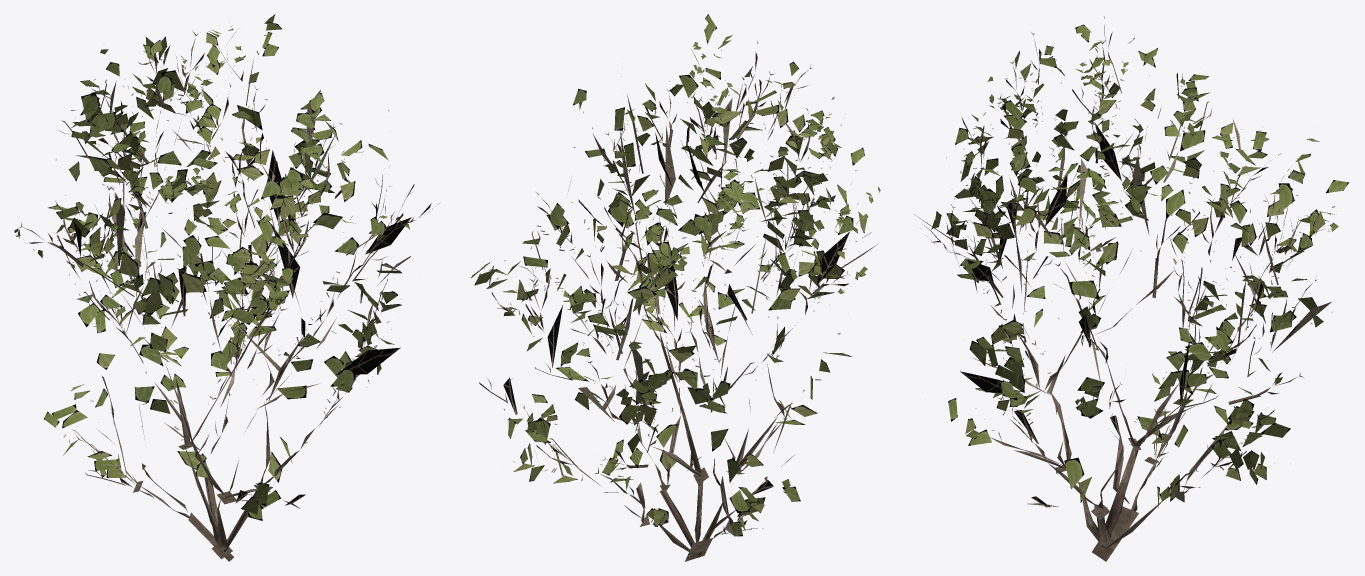
File: chap_b.glb
3 views of the same model, side by side, from view 1: azimuth 30°, elevation 25°; view 2: azimuth 150°, elevation 25°; view 3: azimuth 270°, elevation 25° (orthographic). The views are drawn at different scales.
Visible parts, largest first — view 1: Cube.071; view 2: Cube.071; view 3: Cube.071.
Boxes of the visible parts, left/top/right/bottom form: Cube.071: left=14, top=14, right=438, bottom=561; Cube.071: left=471, top=14, right=880, bottom=561; Cube.071: left=914, top=16, right=1348, bottom=561.
Bounding box in the file's own units: 1.43 × 1.99 × 1.53.
3 materials, 3 textured.
